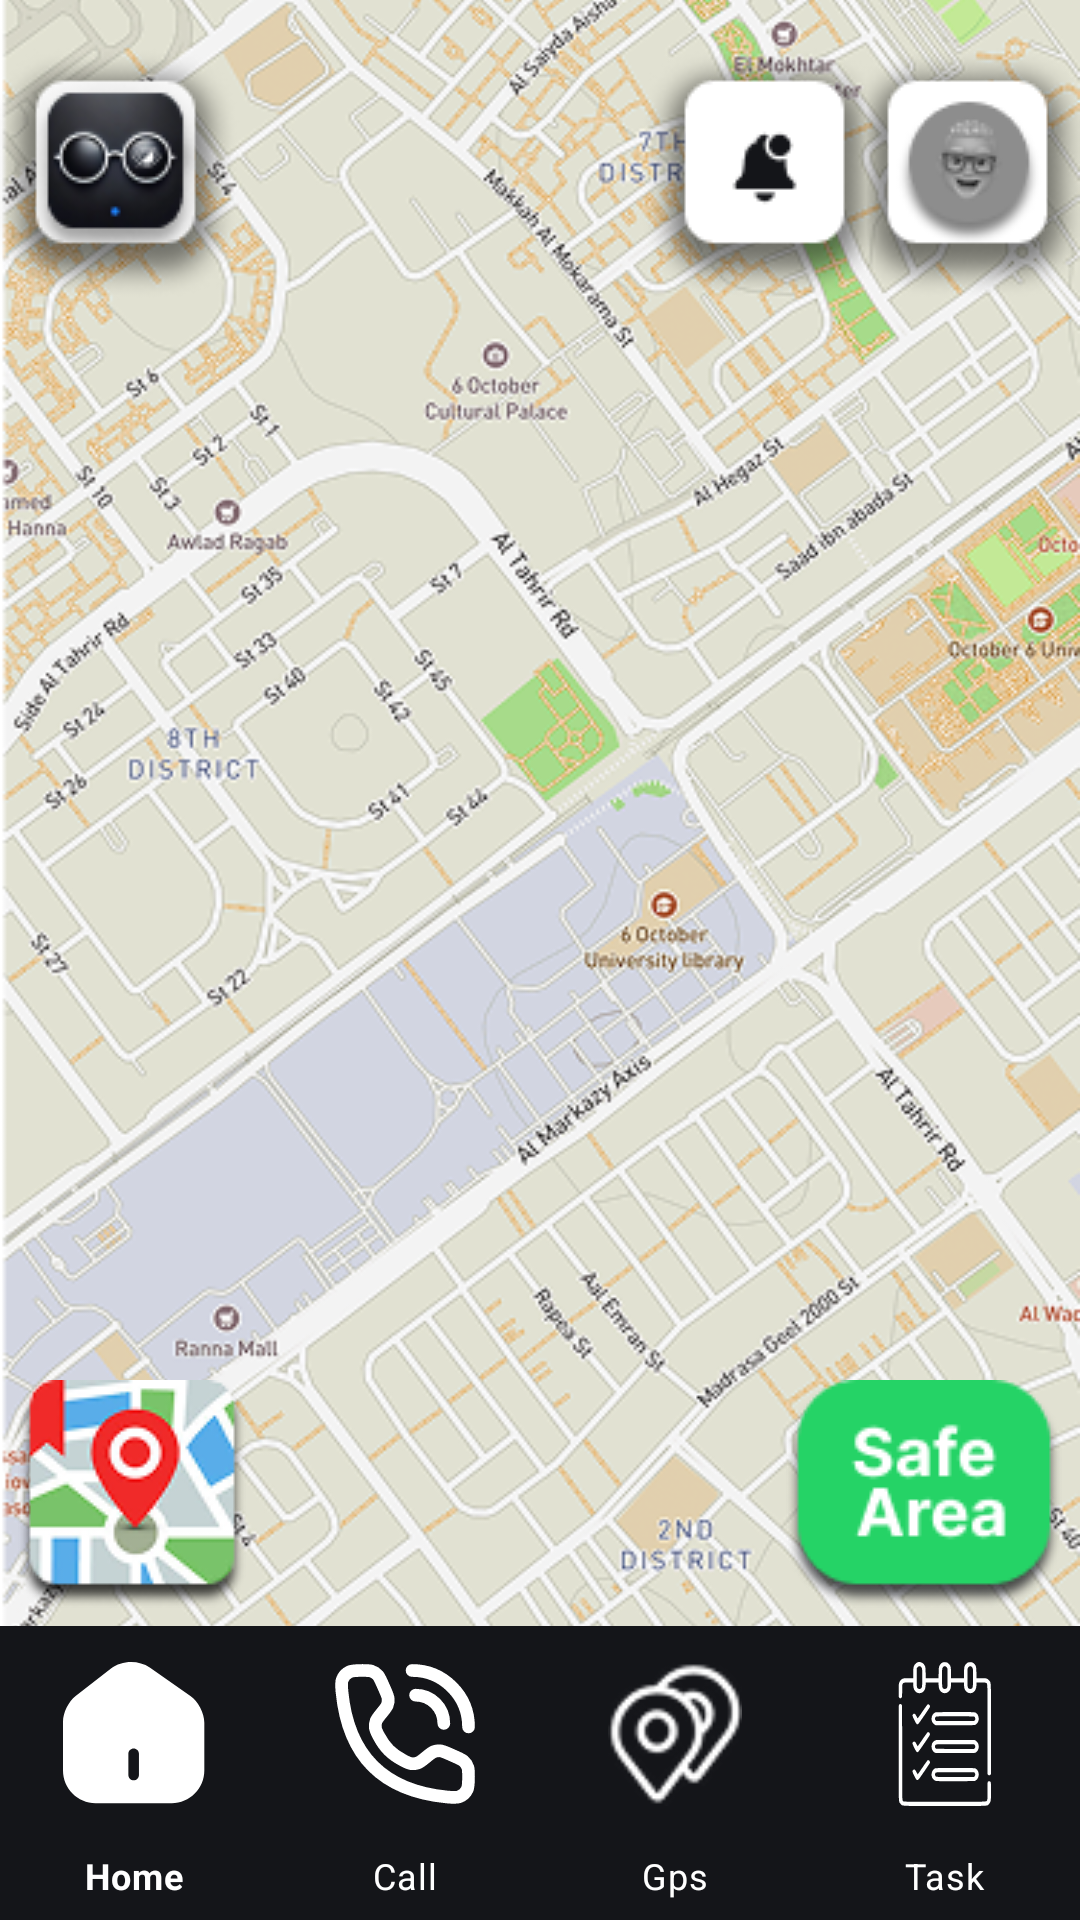

Point at icon controls on the screen. Image size 1080*1920, points as [x,y].
notification: [753,174]
places save: [132,1494]
profile: [973,174]
